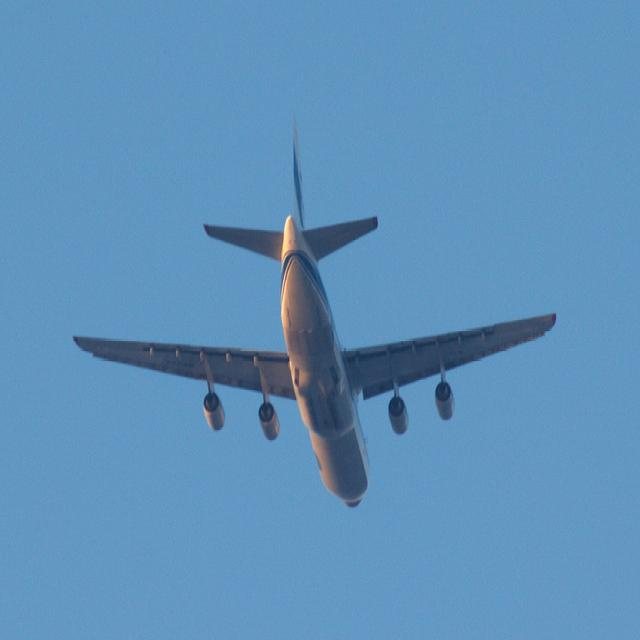airplane: (71, 113, 558, 511)
